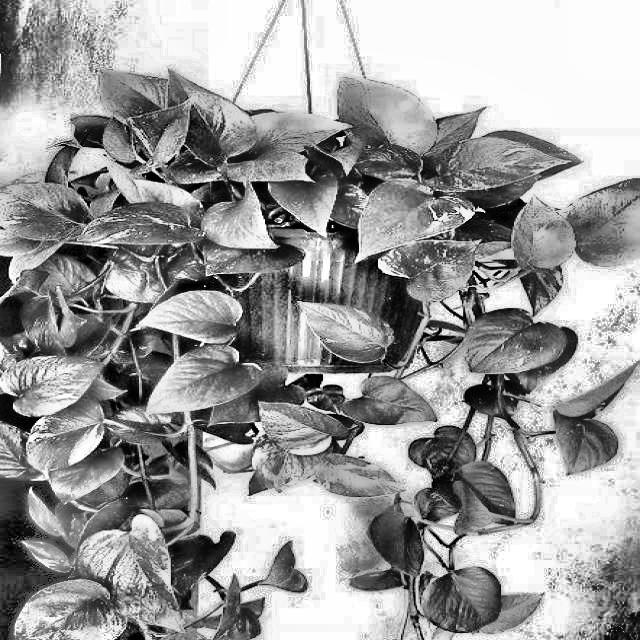plants: (67, 17, 500, 226)
